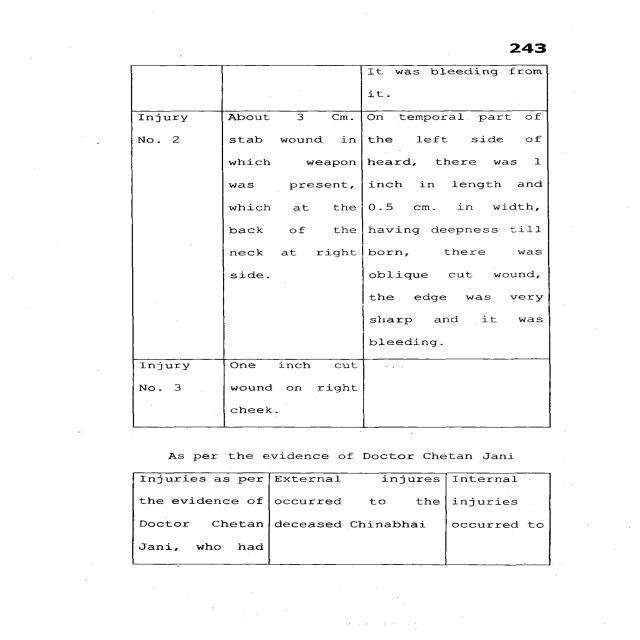page-number: (424, 0, 632, 58)
